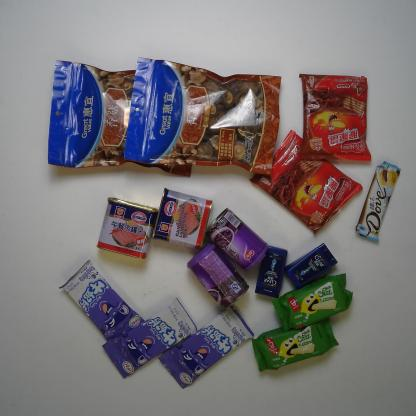Candy: (157, 303, 256, 391), (102, 296, 198, 379), (57, 258, 146, 343)
Canned Food: (204, 207, 271, 273), (185, 242, 250, 310), (95, 196, 160, 260), (150, 186, 214, 251)
Chocolate: (354, 159, 402, 244)
Dessert: (248, 128, 364, 235), (298, 72, 373, 162), (250, 317, 340, 373), (271, 272, 354, 332)
Dried Food: (122, 56, 284, 178), (47, 57, 195, 178)
Personal Hygiene: (284, 241, 340, 290), (254, 244, 289, 300)
